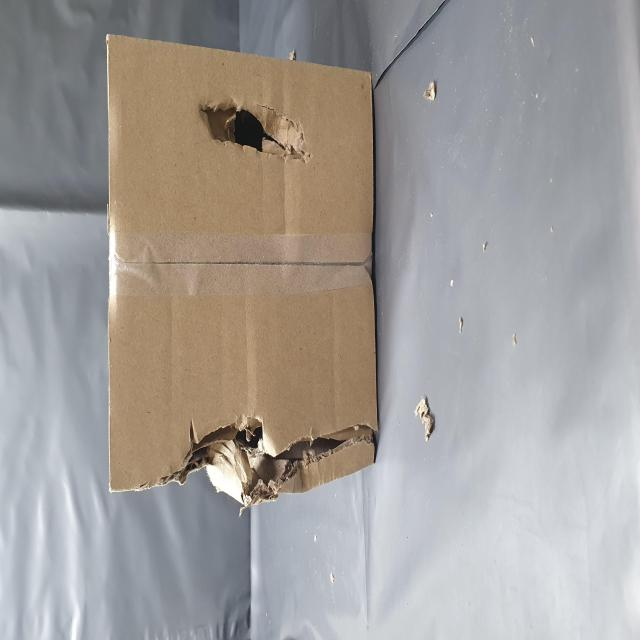damaged: (80, 247, 130, 640), (271, 350, 304, 555)
